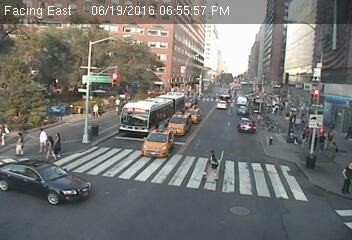neg: (130, 115, 151, 143), (157, 109, 177, 135), (278, 57, 298, 83), (178, 96, 188, 110)
pos: (200, 148, 229, 186), (10, 129, 30, 156), (90, 101, 104, 120)
